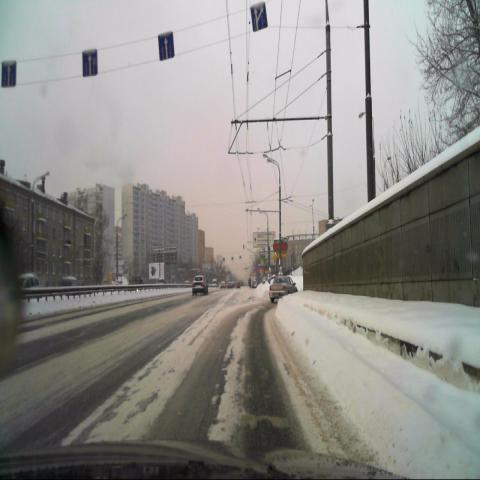5_15_2: (250, 1, 268, 32), (158, 32, 174, 61), (82, 49, 98, 77), (1, 61, 16, 87)
